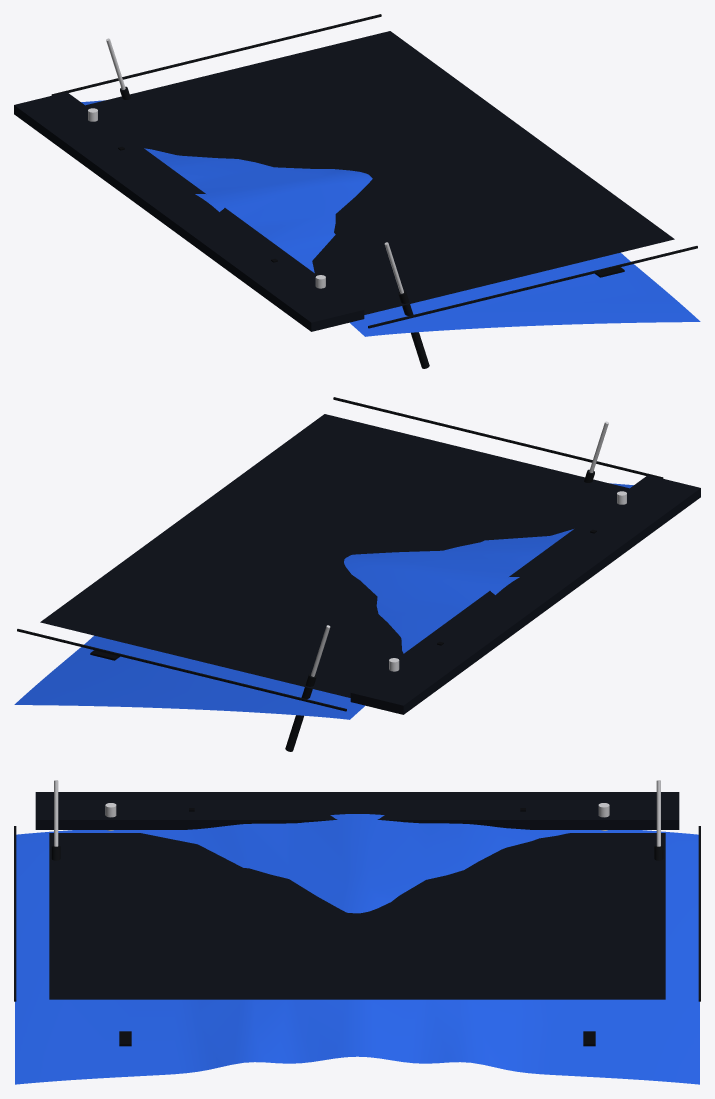
File: bmw_i8_supercar_hood_closed.glb
3 renders of one model, top to bottom at view 1: azimuth 30°, elevation 25°; view 2: azimuth 150°, elevation 25°; view 3: azimuth 270°, elevation 25°, orthographic. The views are drawn at different scales.
Parts seen in each view (by area): view 1: Block04_ProductionSculptedHood; view 2: Block04_ProductionSculptedHood; view 3: Block04_ProductionSculptedHood.
Part boxes in pixels (x1,y1,x2,y2): Block04_ProductionSculptedHood: (14,14,700,368); Block04_ProductionSculptedHood: (14,397,700,751); Block04_ProductionSculptedHood: (14,780,700,1084).
Size of the model in its own units: 0.86 by 0.2967 by 1.24.
